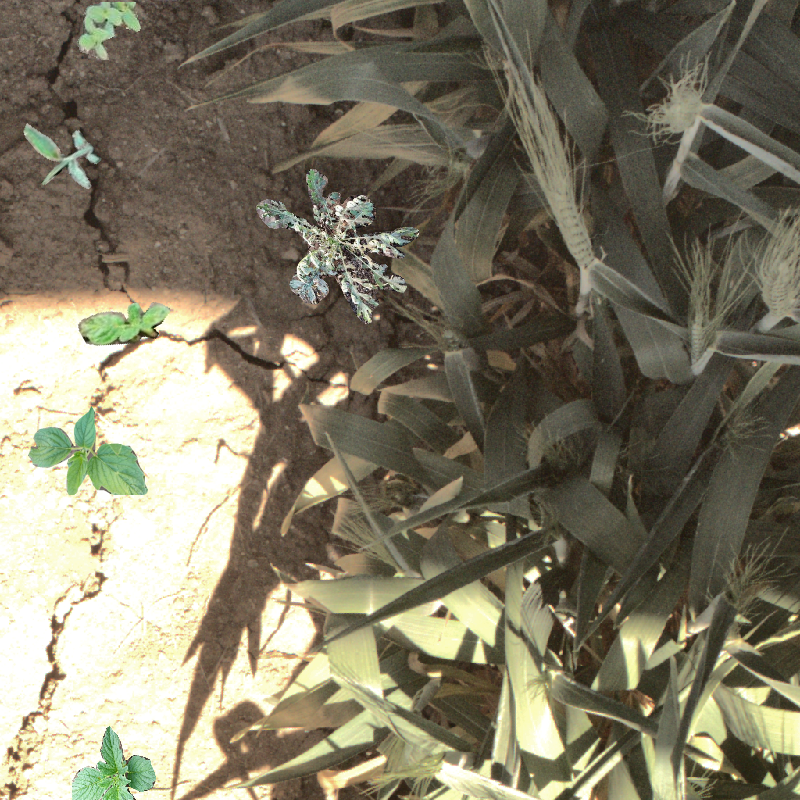spikelet: (541, 162, 597, 281), (430, 758, 563, 799), (757, 254, 799, 321), (656, 83, 705, 135), (689, 285, 715, 377)
weed: (255, 169, 421, 319), (28, 406, 148, 495), (72, 726, 156, 800), (21, 123, 104, 192), (77, 299, 167, 342), (77, 2, 141, 60)
